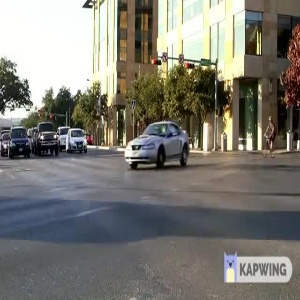car: (117, 115, 198, 177), (61, 126, 92, 155)
truck: (31, 115, 62, 157)
van: (7, 120, 34, 159)
